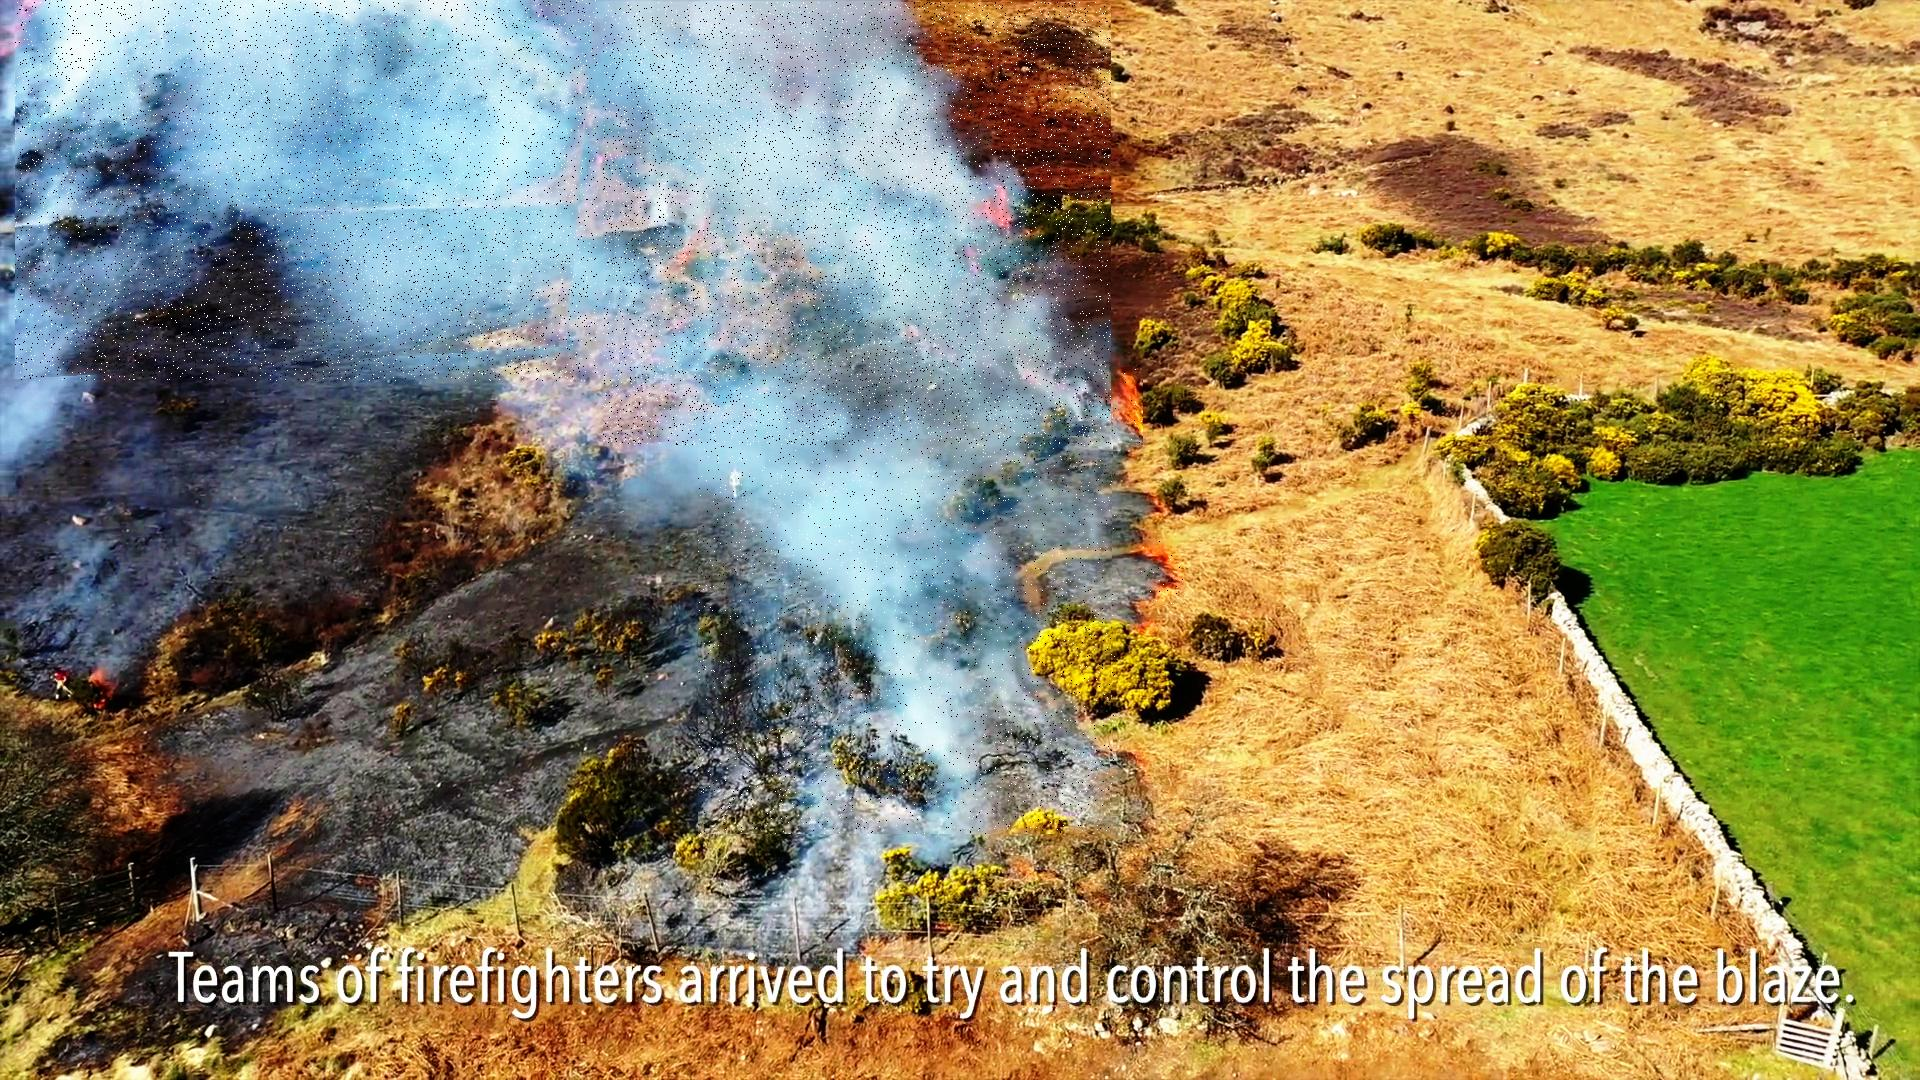fire: (1109, 367, 1146, 443), (1142, 541, 1184, 607)
smoke: (603, 3, 1112, 446), (15, 0, 597, 381), (699, 393, 1116, 835)
